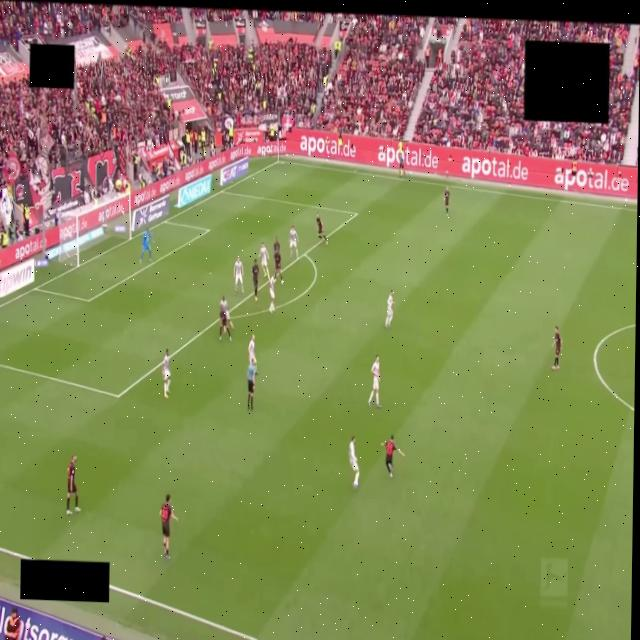player: (160, 494, 177, 559), (382, 436, 403, 478), (67, 454, 80, 514), (368, 356, 380, 408), (349, 436, 359, 487), (162, 348, 171, 399), (219, 303, 231, 341), (220, 296, 233, 329), (140, 230, 153, 261), (552, 326, 561, 370), (274, 243, 283, 285), (251, 258, 259, 302), (234, 257, 243, 295), (385, 291, 394, 328), (316, 214, 327, 244), (260, 243, 269, 279), (289, 227, 298, 258), (269, 276, 275, 313), (248, 336, 255, 362), (444, 187, 449, 216)
referee: (247, 360, 256, 410)
